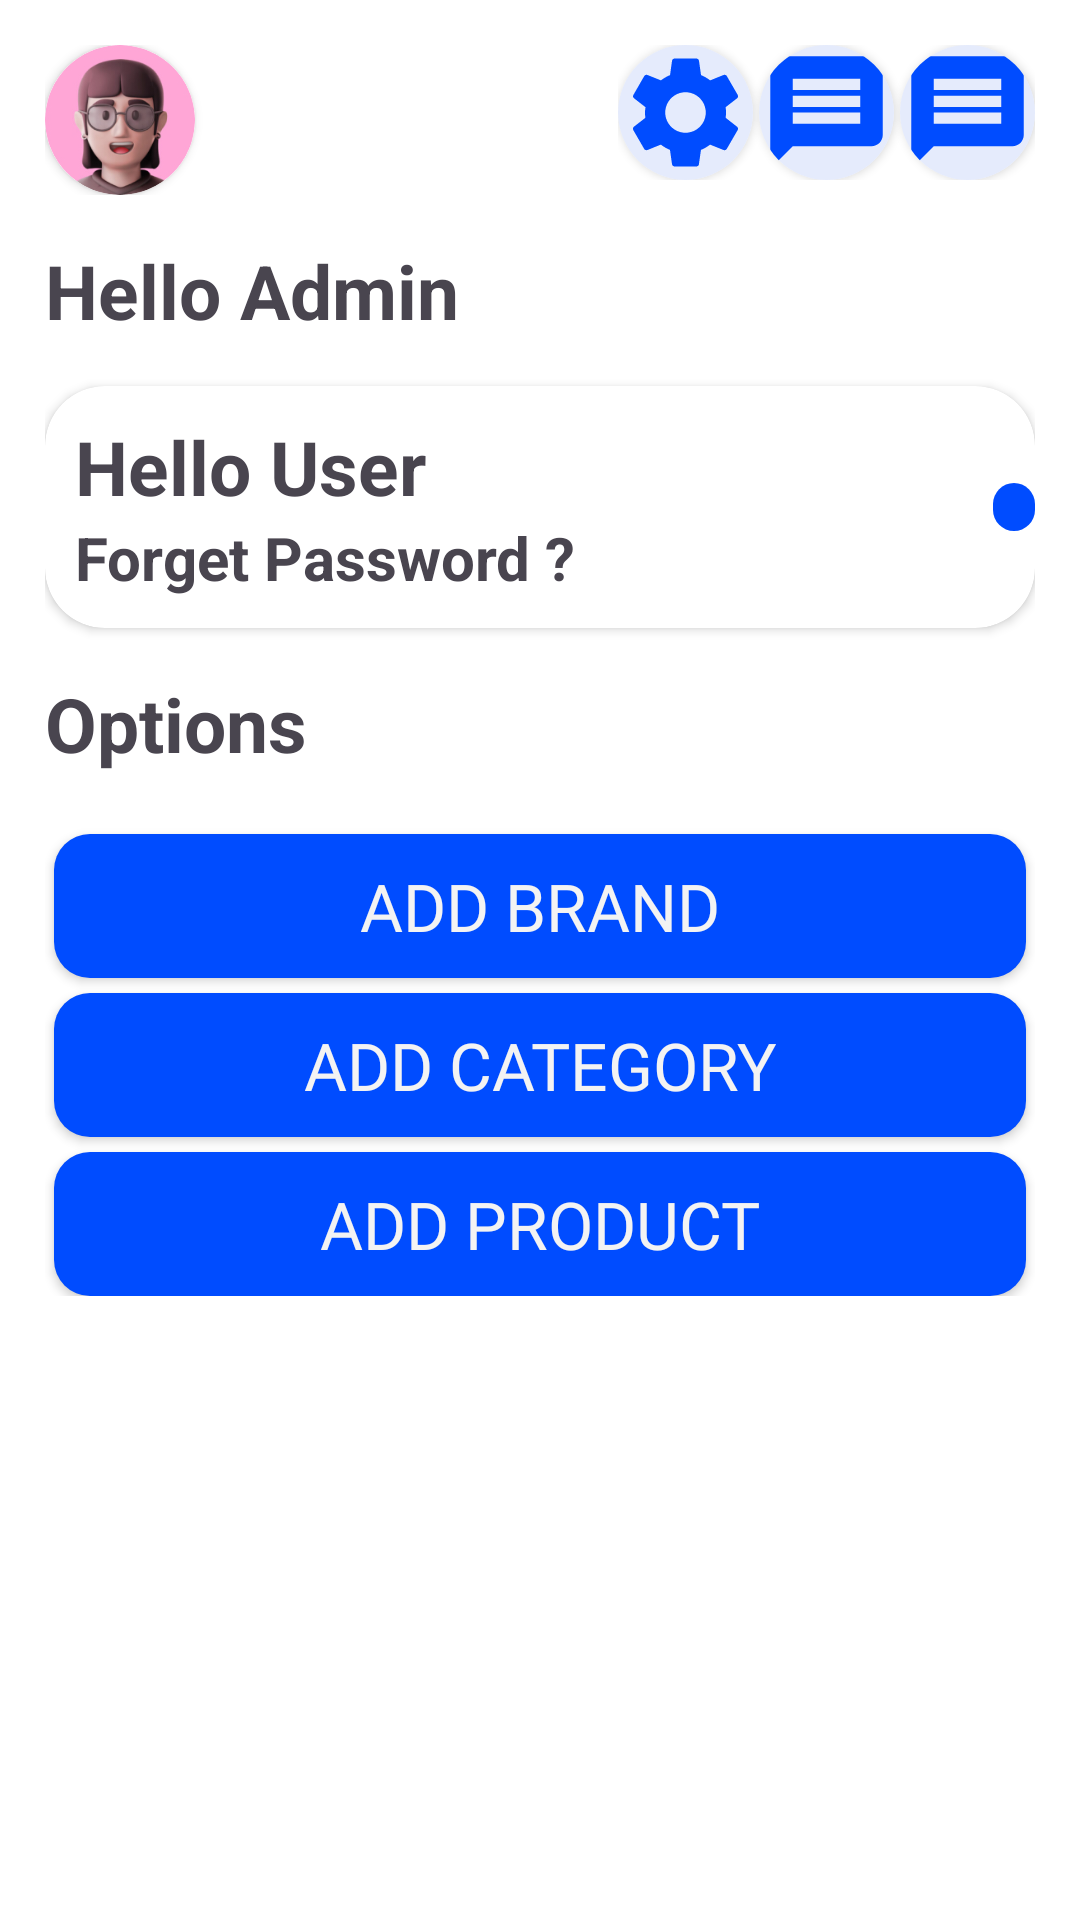

Where to tap for icons on this 1080w x 1920h app screen, as (x,y):
message: (826,112), (967,112)
settings: (685,112)
user: (120,120)
